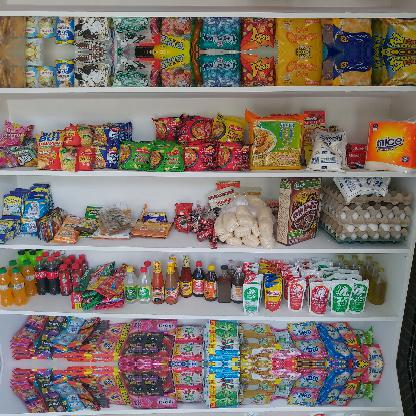Koko-Krunch: (275, 176, 323, 245)
